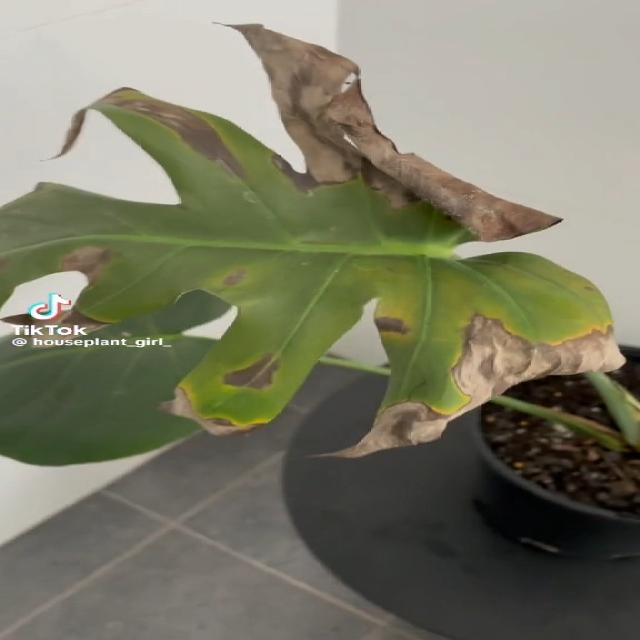lisc_suchy: (0, 23, 629, 460)
roslina_sucha: (0, 24, 640, 468)
